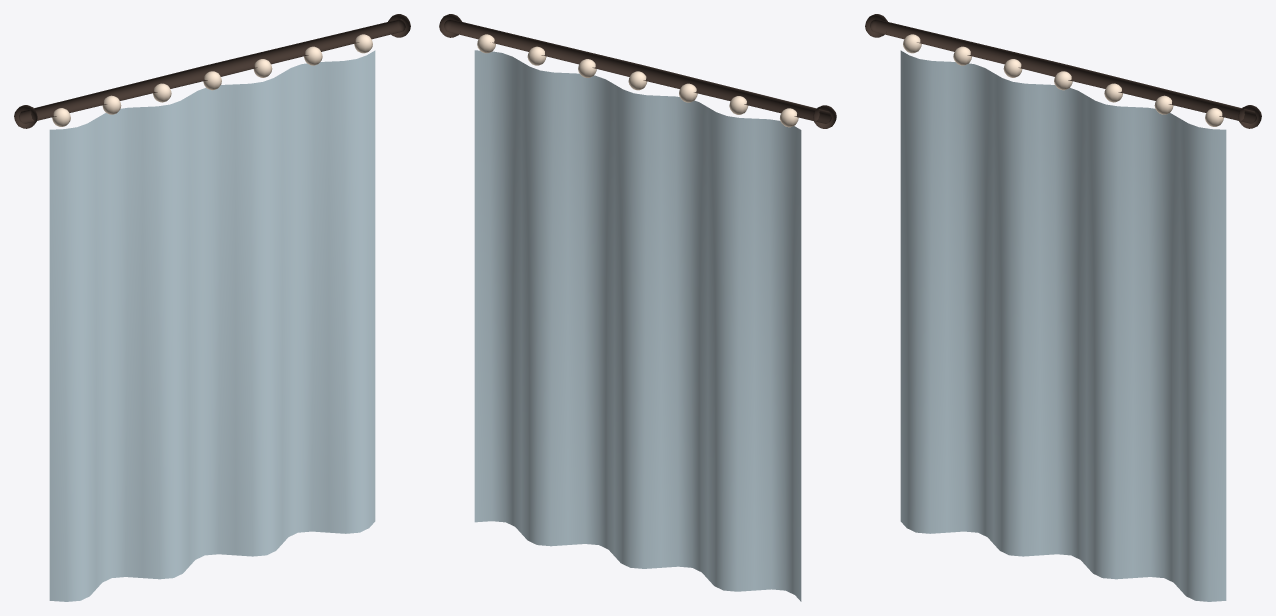
File: duschvorhang.glb
3 views of the same model, side by side, from view 1: azimuth 30°, elevation 25°; view 2: azimuth 150°, elevation 25°; view 3: azimuth 330°, elevation 25° (orthographic).
Parts seen in each view (by area): view 1: DuschStoff, DuschStange; view 2: DuschStoff, DuschStange; view 3: DuschStoff, DuschStange.
Part boxes in pixels (x1,y1,x2,y2): DuschStoff: (49, 50, 375, 601); DuschStange: (14, 14, 410, 128); DuschStoff: (474, 50, 801, 601); DuschStange: (439, 14, 836, 128); DuschStoff: (900, 50, 1226, 601); DuschStange: (865, 14, 1261, 128).
Bounding box in the file's own units: 1.33 × 1.62 × 0.09.
Materials: 2 (1 with a texture image).
